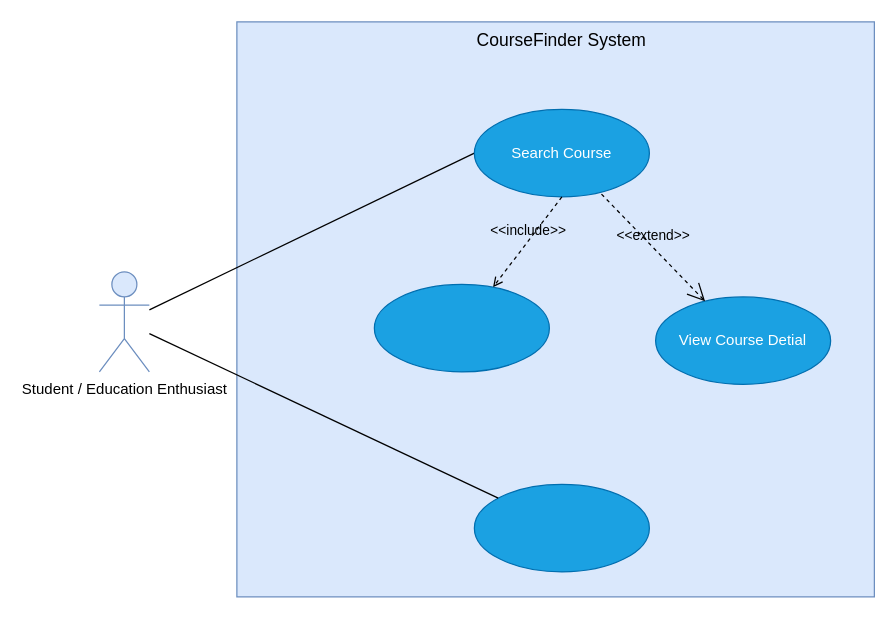
The diagram is 896 pixels wide and 619 high, and some of its shapes have lost their labels. Each missing label, with the centre of its shape:
Filter Course: pixel 461 327
View Search History: pixel 561 527
